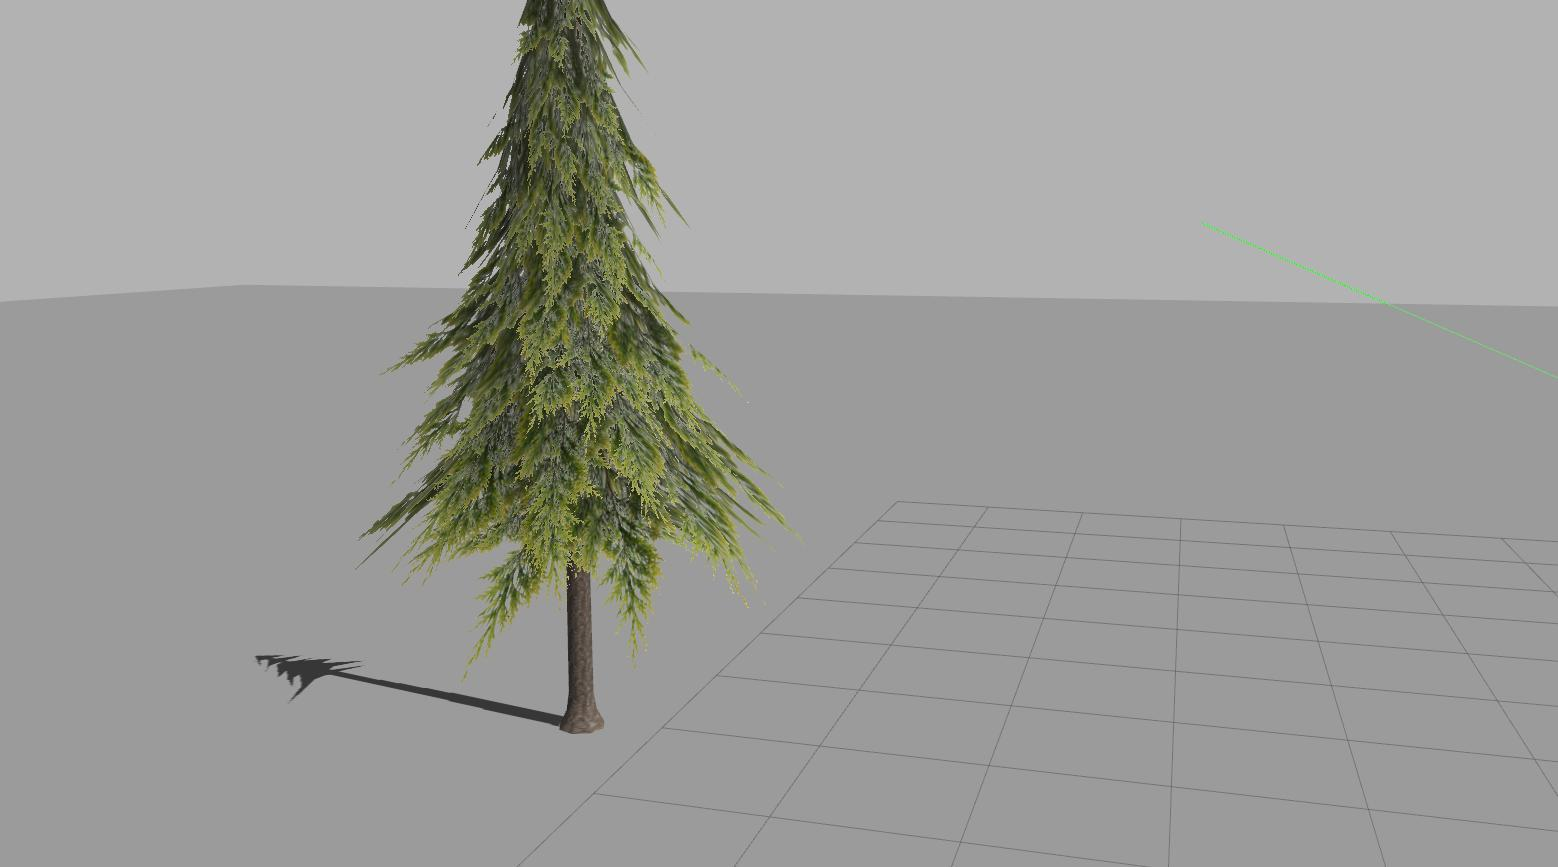tree_gazebo: (368, 0, 785, 734)
